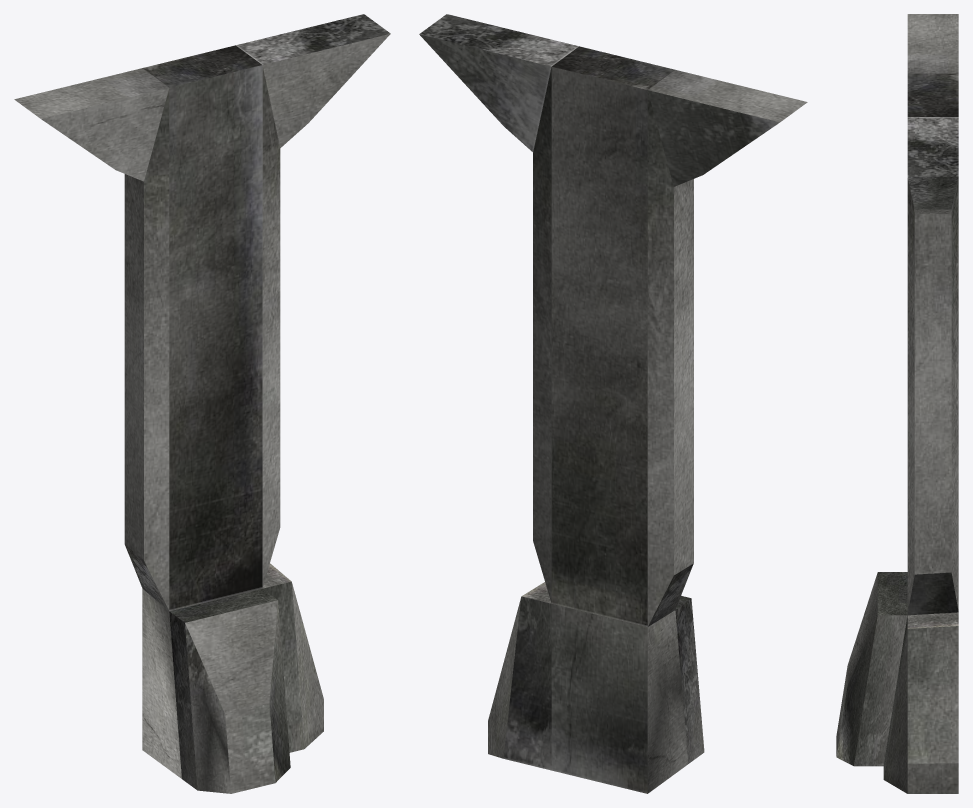
Rendered from R3_Corner.obj.
3 renders of one model, left to right at view 1: azimuth 30°, elevation 25°; view 2: azimuth 150°, elevation 25°; view 3: azimuth 270°, elevation 25°, orthographic. The views are drawn at different scales.
Parts seen in each view (by area): view 1: Cube.002; view 2: Cube.002; view 3: Cube.002.
Part boxes in pixels (x1,y1,x2,y2): Cube.002: [14, 14, 390, 793]; Cube.002: [419, 14, 807, 793]; Cube.002: [836, 14, 958, 793].
Size of the model in its own units: 3.76 by 7.03 by 1.2.
Materials: 1 (1 with a texture image).
